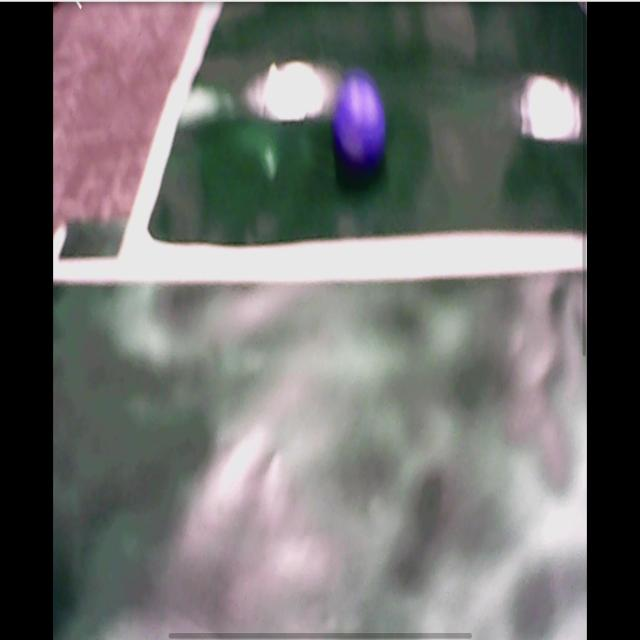ball: (331, 79, 386, 163)
